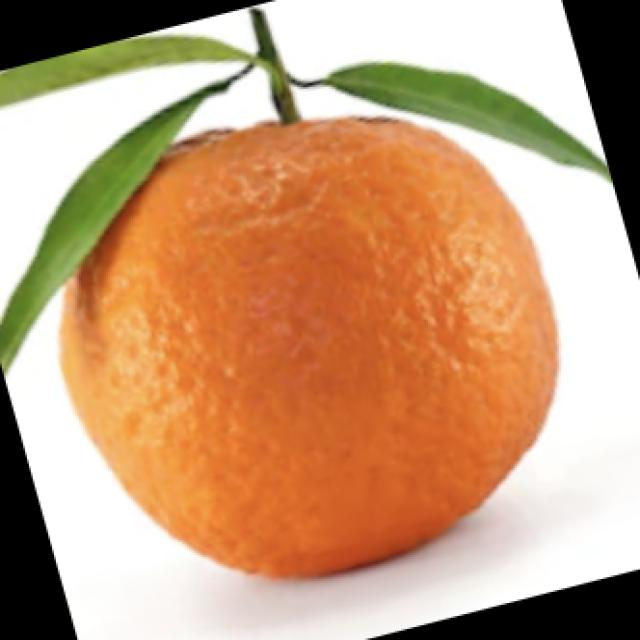matang: (59, 109, 568, 591)
